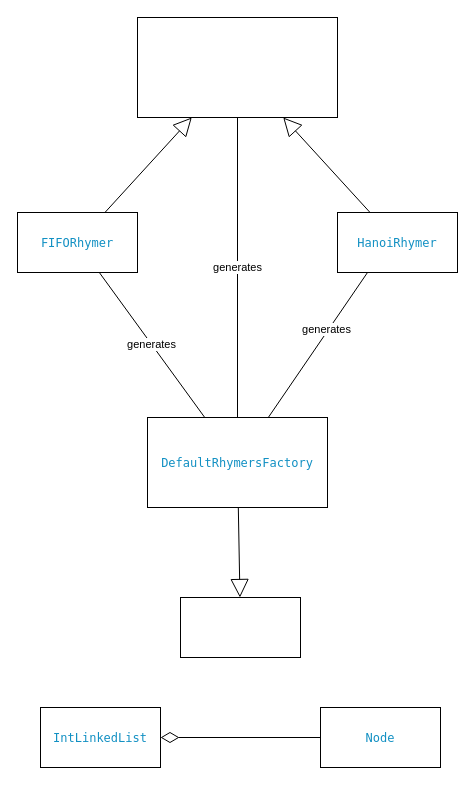
This 475x785 diagram has some shape labels left out. The shapes that lost their labels are listed below. From the top down, each one's box as (x1, y1, x2, y2) in pixels, then its label:
(136, 16, 338, 118): DefaultCountingOutRhymer
(180, 596, 300, 658): RhymersFactory
